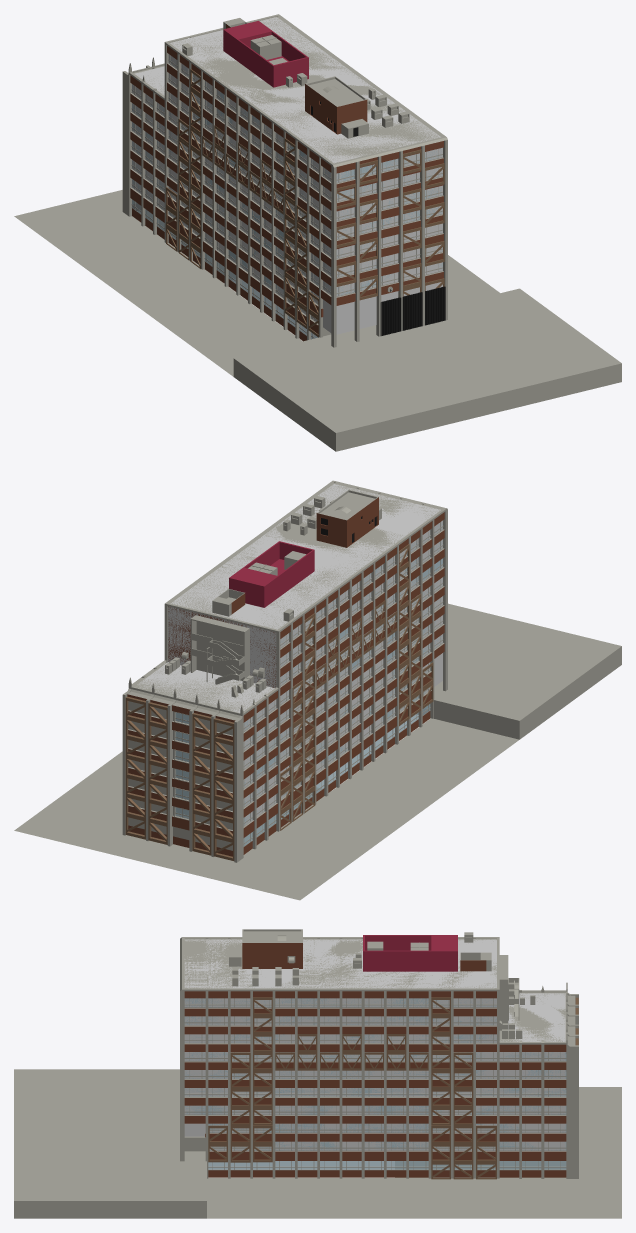
File: building_no16_nocolored.fbx
3 renders of one model, top to bottom at view 1: azimuth 30°, elevation 25°; view 2: azimuth 150°, elevation 25°; view 3: azimuth 270°, elevation 25°, orthographic. The views are drawn at different scales.
Visible parts, largest first — view 1: Cube, Cube.001; view 2: Cube, Cube.001; view 3: Cube, Cube.001.
Part boxes in pixels (x1,y1,x2,y2): Cube: [14, 14, 621, 451]; Cube.001: [132, 17, 442, 334]; Cube: [14, 480, 621, 900]; Cube.001: [135, 484, 442, 825]; Cube: [14, 929, 621, 1218]; Cube.001: [184, 939, 565, 1150].
Size of the model in its own units: 1615 by 1232 by 3149.
